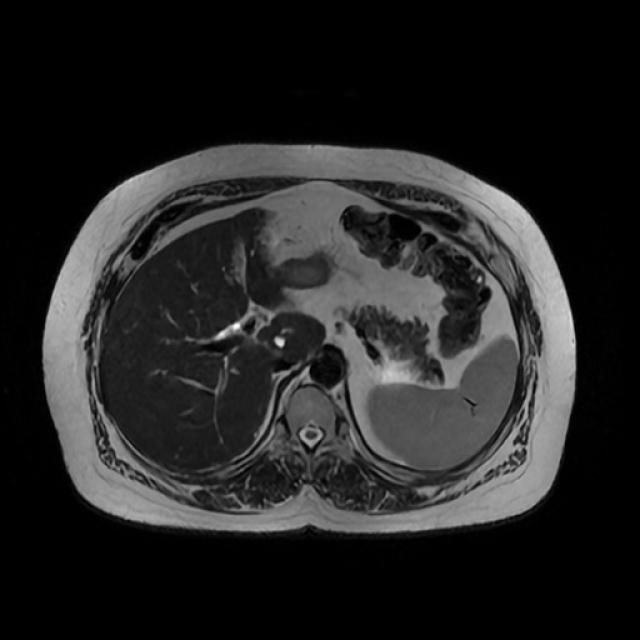sol: (380, 358, 412, 384)
